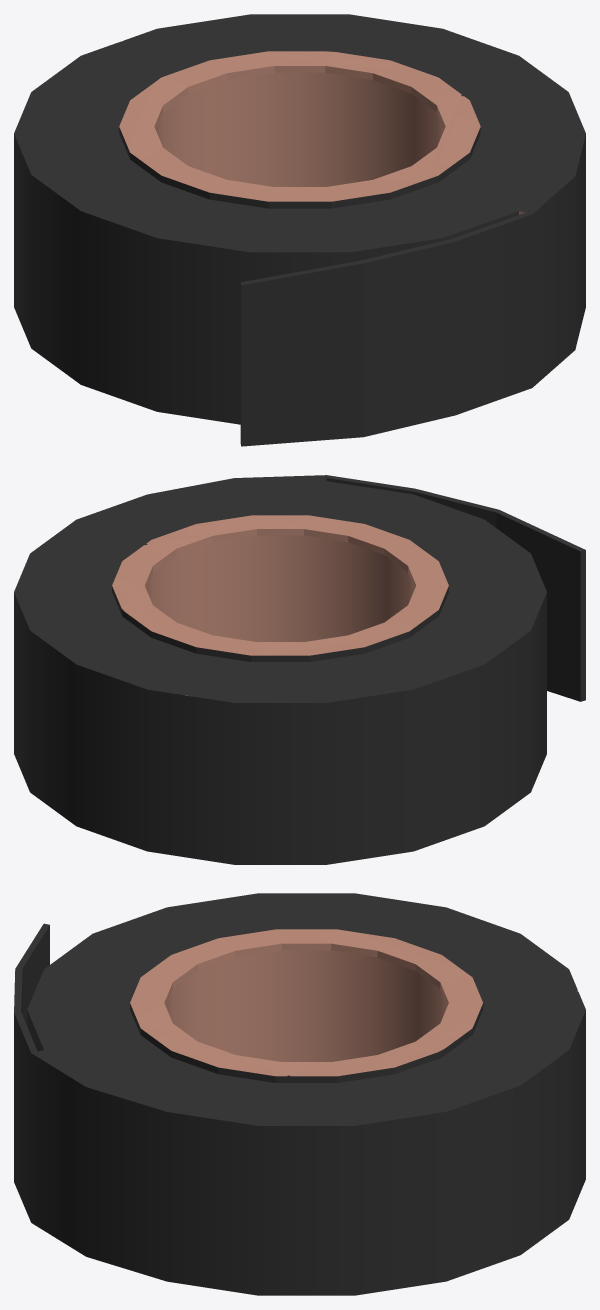
The model's file is Tape.FBX.
3 renders of one model, top to bottom at view 1: azimuth 30°, elevation 25°; view 2: azimuth 150°, elevation 25°; view 3: azimuth 270°, elevation 25°, orthographic. The views are drawn at different scales.
Parts seen in each view (by area): view 1: Tape; view 2: Tape; view 3: Tape.
Part boxes in pixels (<box>): Tape: <box>14,14,585,446</box>; Tape: <box>14,475,585,864</box>; Tape: <box>14,893,585,1295</box>.
Size of the model in its own units: 4.73 by 1.74 by 4.92.
1 material, 1 textured.
